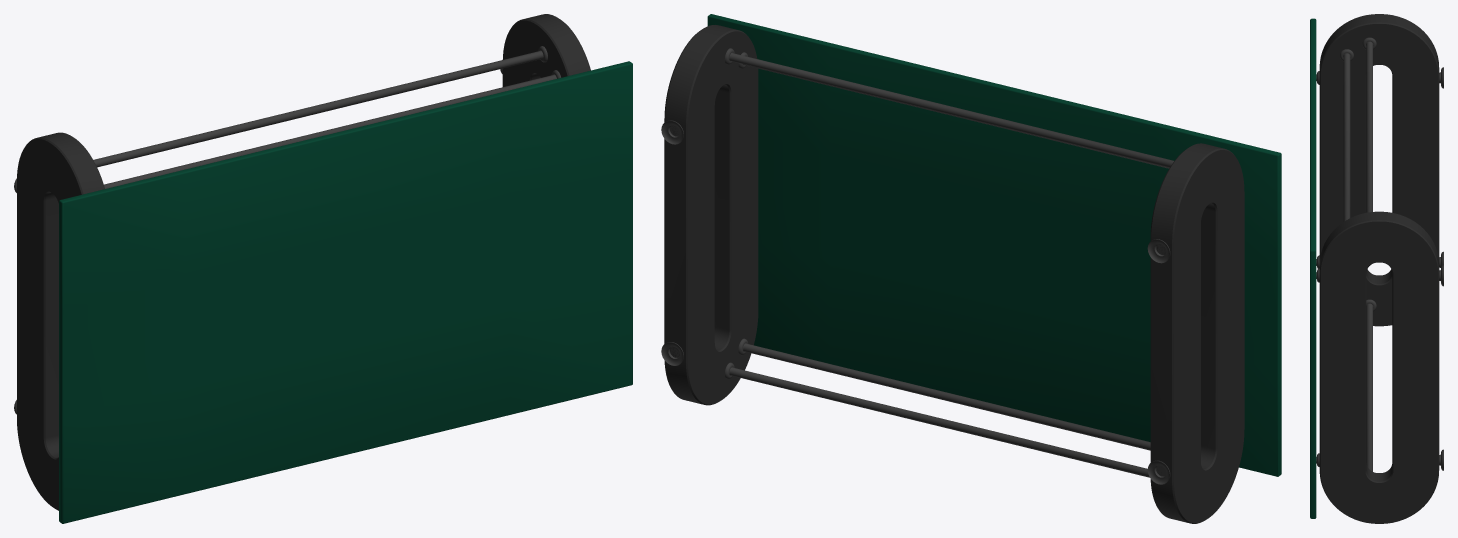
Rendered from Coffeet2.obj.
3 views of the same model, side by side, from view 1: azimuth 30°, elevation 25°; view 2: azimuth 150°, elevation 25°; view 3: azimuth 270°, elevation 25° (orthographic). The views are drawn at different scales.
Visible parts, largest first — view 1: Table2; view 2: Table2; view 3: Table2.
Boxes of the visible parts, x1,y1,x2,y2 form: Table2: (14, 14, 632, 523); Table2: (661, 14, 1281, 523); Table2: (1310, 14, 1443, 523).
Size of the model in its own units: 49.01 by 29.89 by 11.92.
